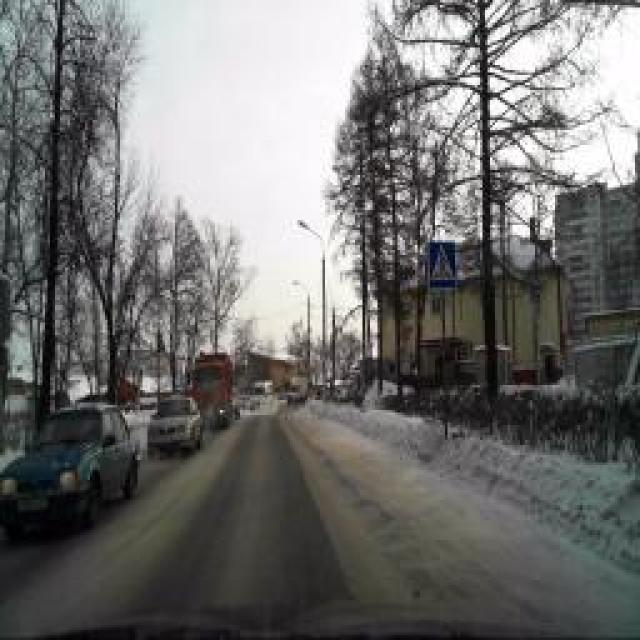sign: (320, 346, 330, 362)
